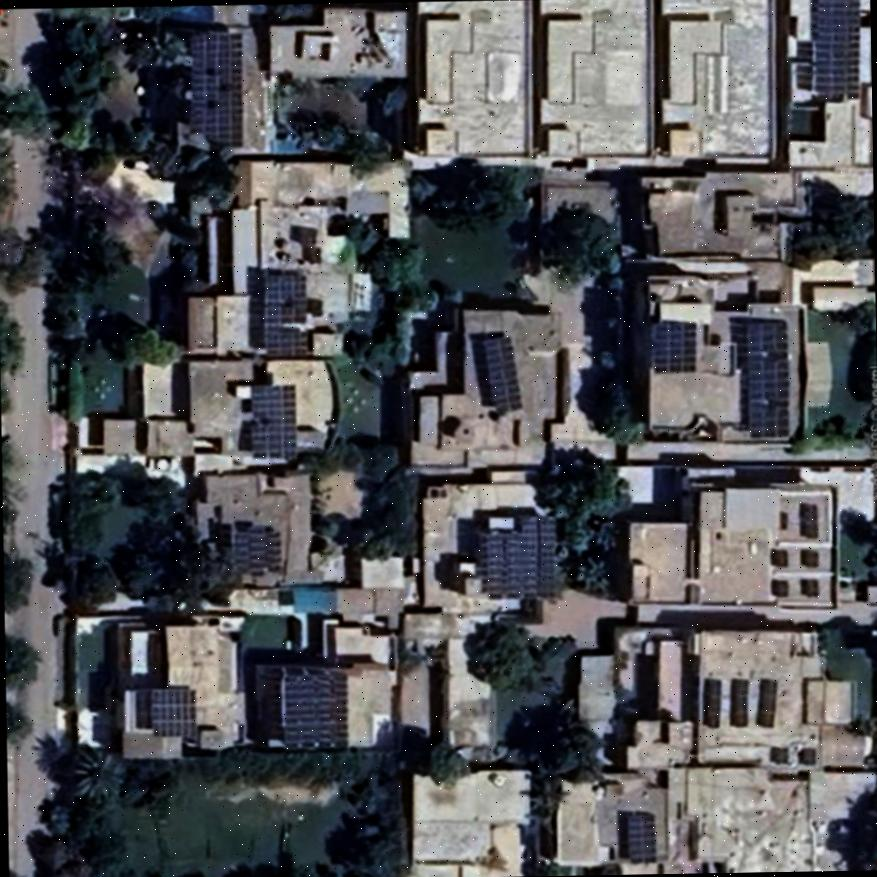Solarpanel: (482, 515, 559, 598), (744, 320, 784, 438), (188, 32, 232, 134), (816, 0, 860, 93), (284, 675, 338, 747), (250, 387, 294, 458), (266, 274, 304, 356), (481, 336, 519, 412), (654, 321, 695, 372), (150, 687, 192, 735), (232, 534, 273, 574), (626, 813, 653, 859), (758, 677, 775, 727), (728, 678, 745, 724), (707, 679, 718, 726), (803, 501, 815, 536)
